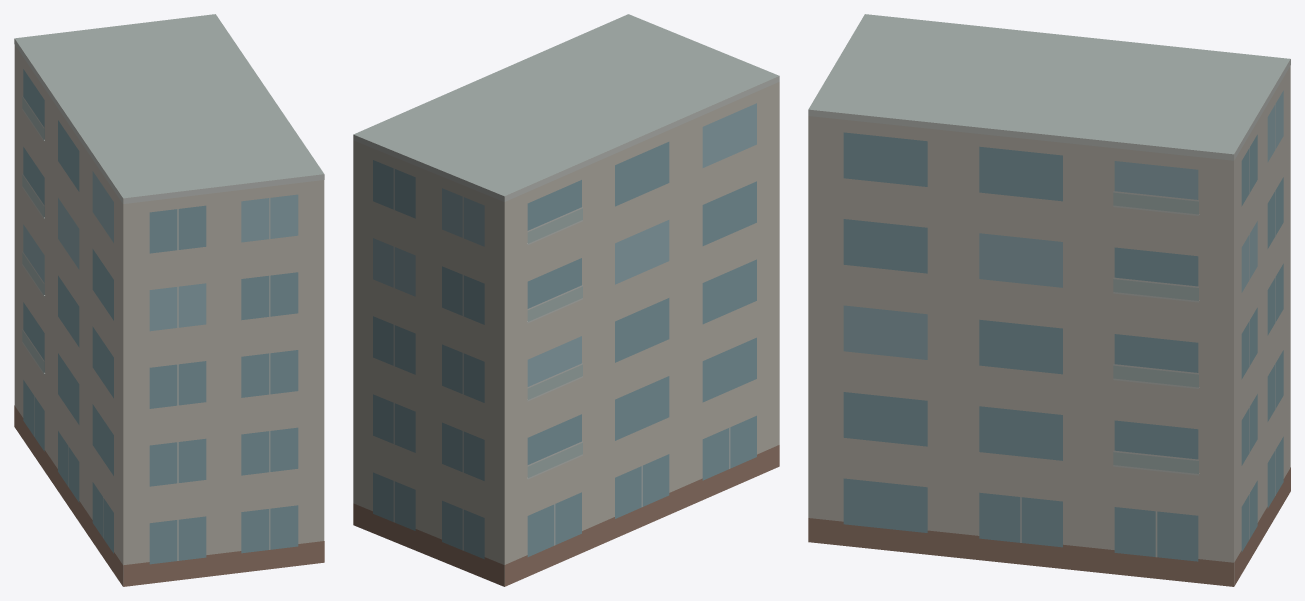
Rendered from survey-upis-32763007.glb.
The picture shows the model from 3 angles, left to right: view 1: azimuth 30°, elevation 25°; view 2: azimuth 150°, elevation 25°; view 3: azimuth 270°, elevation 25°; orthographic projection. The views are drawn at different scales.
Visible parts, largest first — view 1: survey-upis-32763007.tmp; view 2: survey-upis-32763007.tmp; view 3: survey-upis-32763007.tmp.
Part boxes in pixels (<box>): survey-upis-32763007.tmp: <box>14,14,324,586</box>; survey-upis-32763007.tmp: <box>353,14,779,586</box>; survey-upis-32763007.tmp: <box>808,14,1290,586</box>.
Size of the model in its own units: 11.46 by 16.45 by 16.64.
